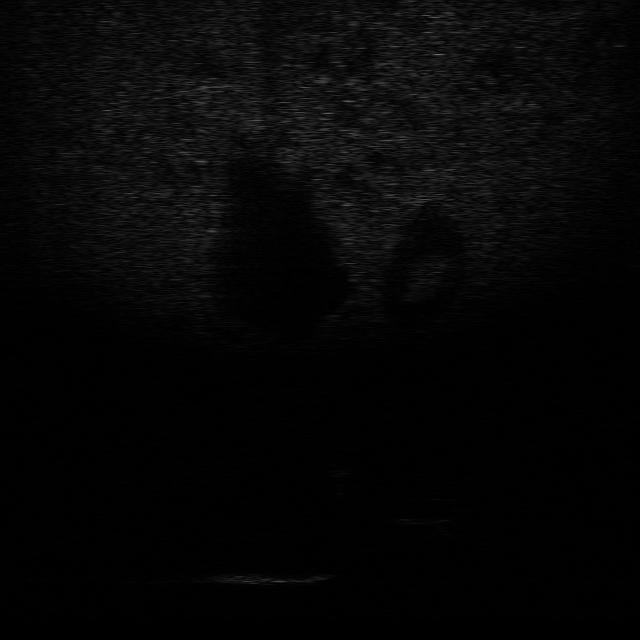ball: (316, 454, 358, 476)
metal bucket: (204, 558, 330, 590)
tyre: (386, 494, 465, 528)
